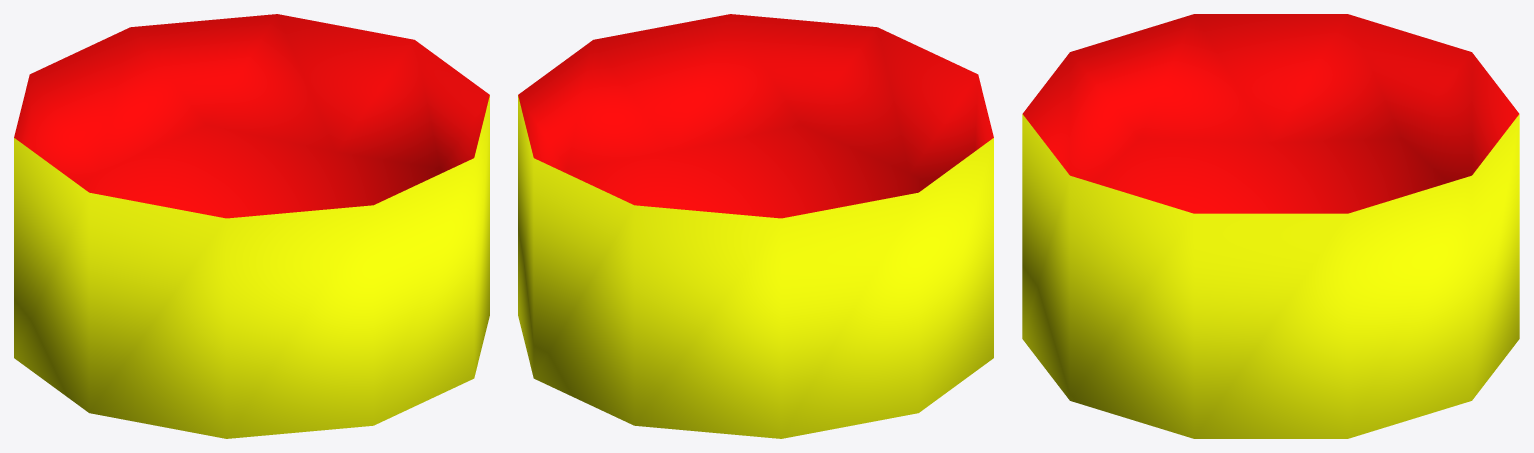
File: crater.FBX
The picture shows the model from 3 angles, left to right: view 1: azimuth 30°, elevation 25°; view 2: azimuth 150°, elevation 25°; view 3: azimuth 270°, elevation 25°; orthographic projection. The views are drawn at different scales.
Parts seen in each view (by area): view 1: GeoSphere001; view 2: GeoSphere001; view 3: GeoSphere001.
Boxes of the visible parts, box(x1,y1,x2,y2) form: GeoSphere001: box(14, 14, 489, 438); GeoSphere001: box(518, 14, 993, 438); GeoSphere001: box(1022, 14, 1519, 438).
Size of the model in its own units: 190 by 100 by 200.
